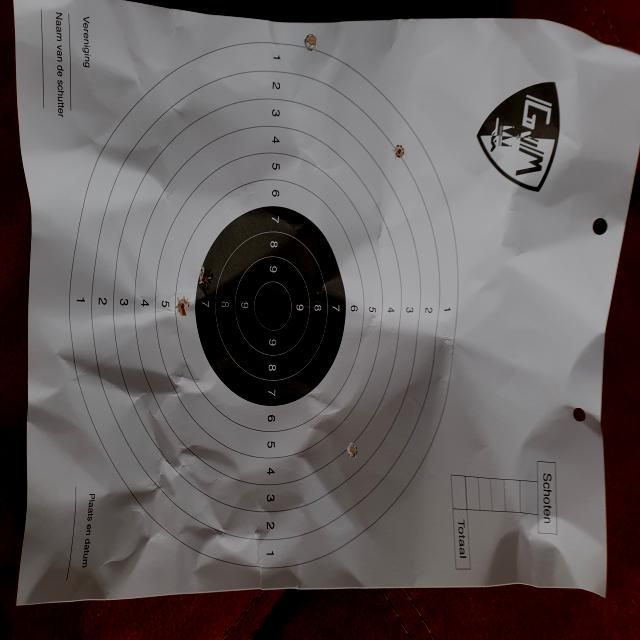1: (304, 34, 317, 52)
2: (392, 144, 404, 159)
4: (346, 443, 358, 458)
6: (176, 296, 190, 316)
7: (198, 267, 212, 289)
Target: (70, 41, 458, 570)
black_contour: (195, 206, 346, 406)
